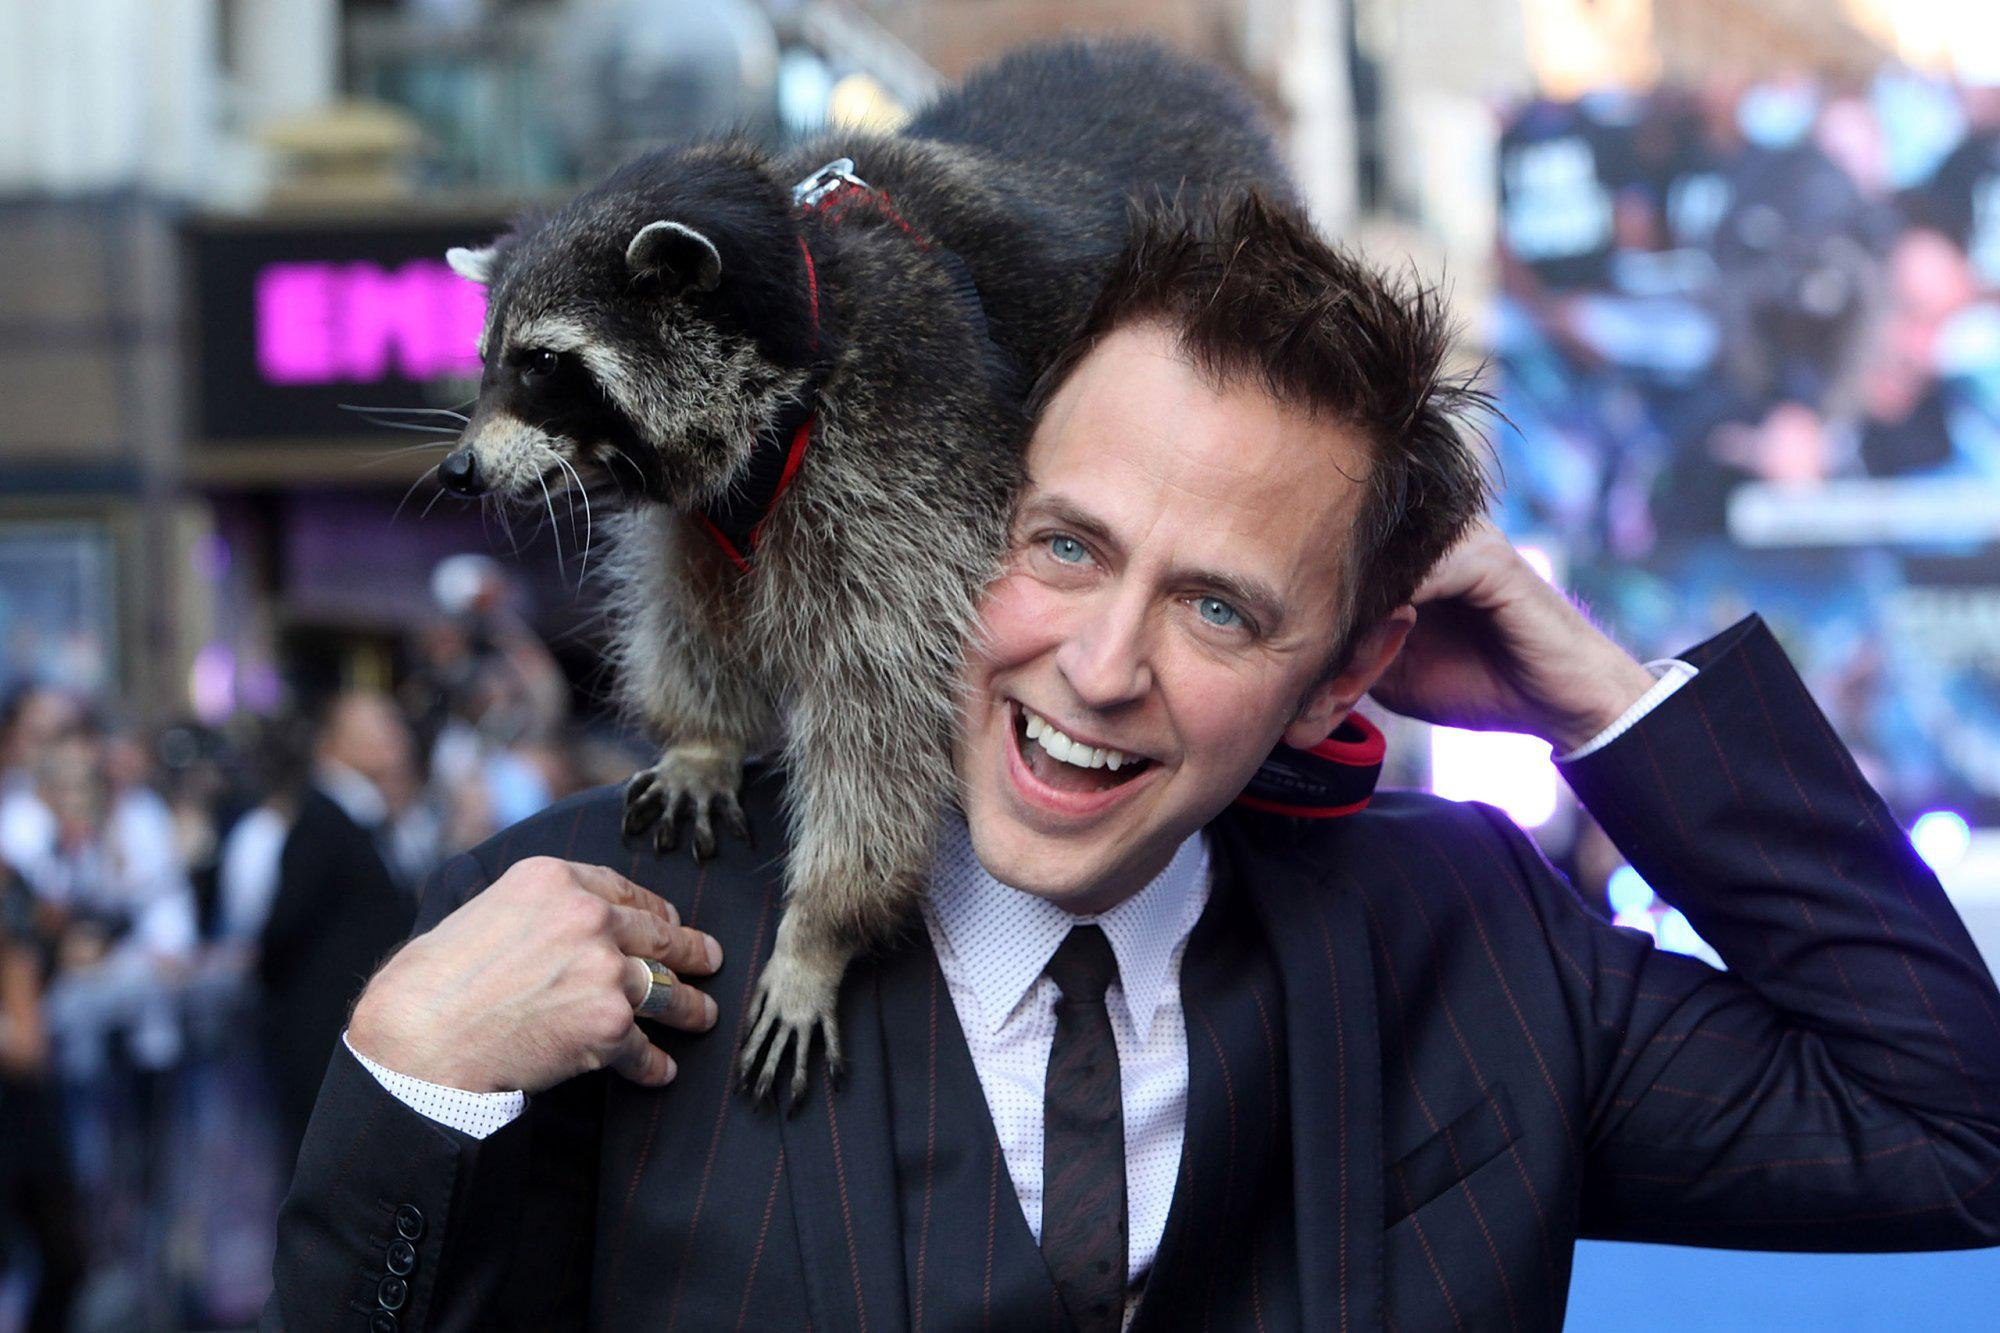raccoon: (384, 7, 1314, 1122)
